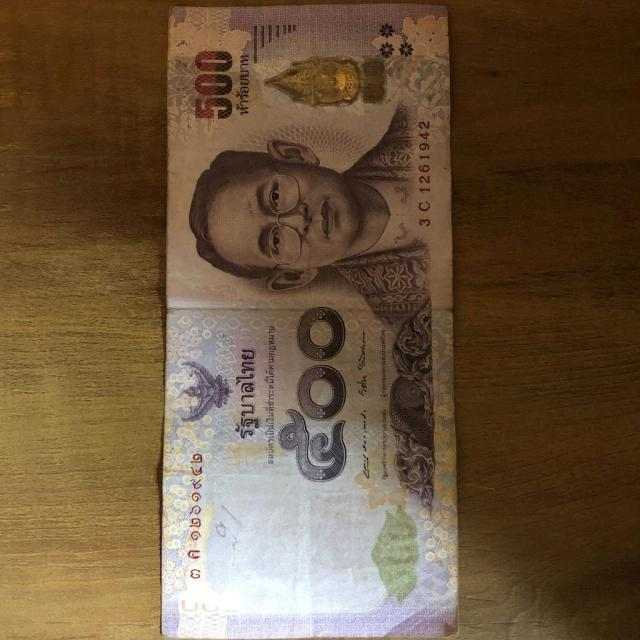THAI500: (162, 6, 458, 638)
